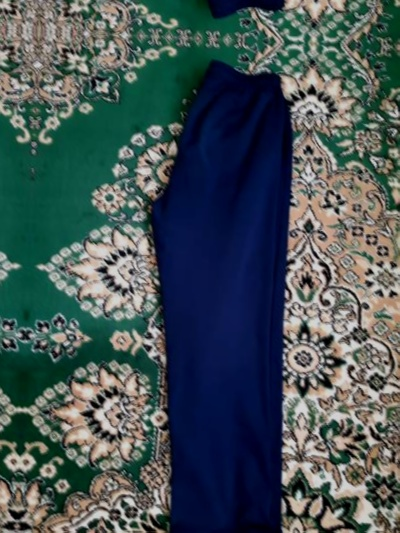Pants: (114, 56, 327, 533), (138, 0, 350, 24)
